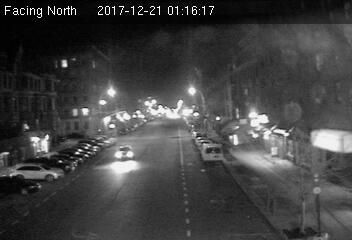car: (115, 144, 136, 160)
truck: (203, 143, 221, 162)
